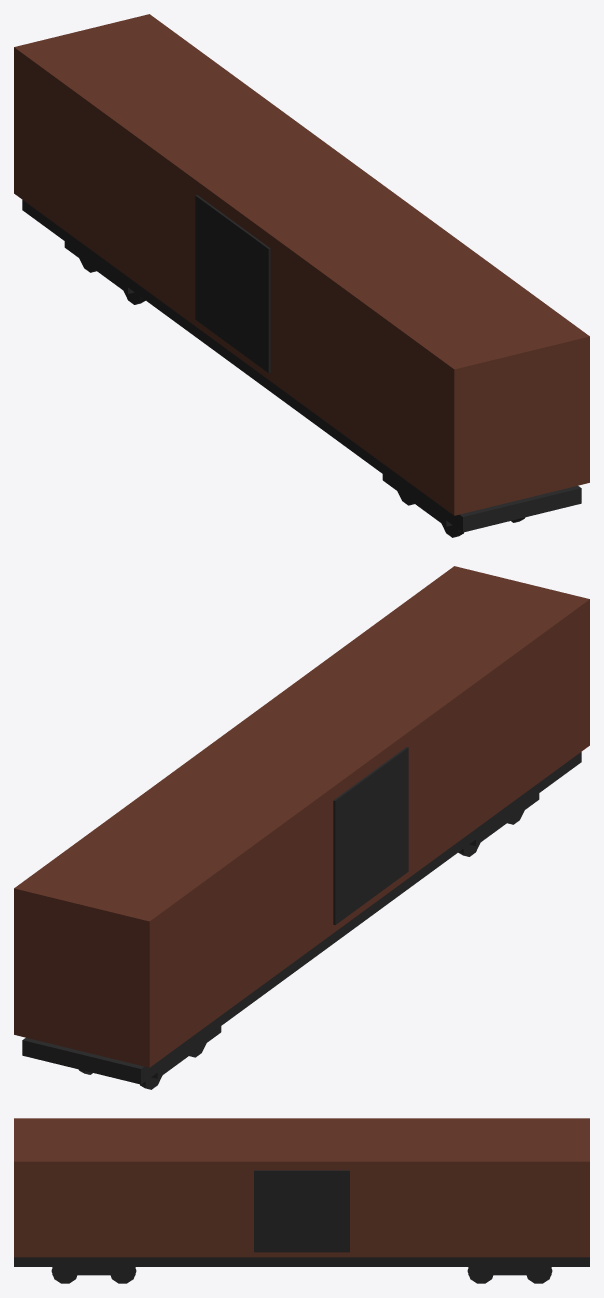
File: tf_freight_boxcar_18m.glb
3 views of the same model, one above another, from view 1: azimuth 30°, elevation 25°; view 2: azimuth 150°, elevation 25°; view 3: azimuth 270°, elevation 25° (orthographic). The views are drawn at different scales.
Parts seen in each view (by area): view 1: tf_freight_boxcar_18m; view 2: tf_freight_boxcar_18m; view 3: tf_freight_boxcar_18m.
Boxes of the visible parts, x1,y1,x2,y2 form: tf_freight_boxcar_18m: [14, 14, 589, 537]; tf_freight_boxcar_18m: [14, 566, 589, 1089]; tf_freight_boxcar_18m: [14, 1118, 589, 1283].
Bounding box in the file's own units: 3.31 × 4.58 × 18.
